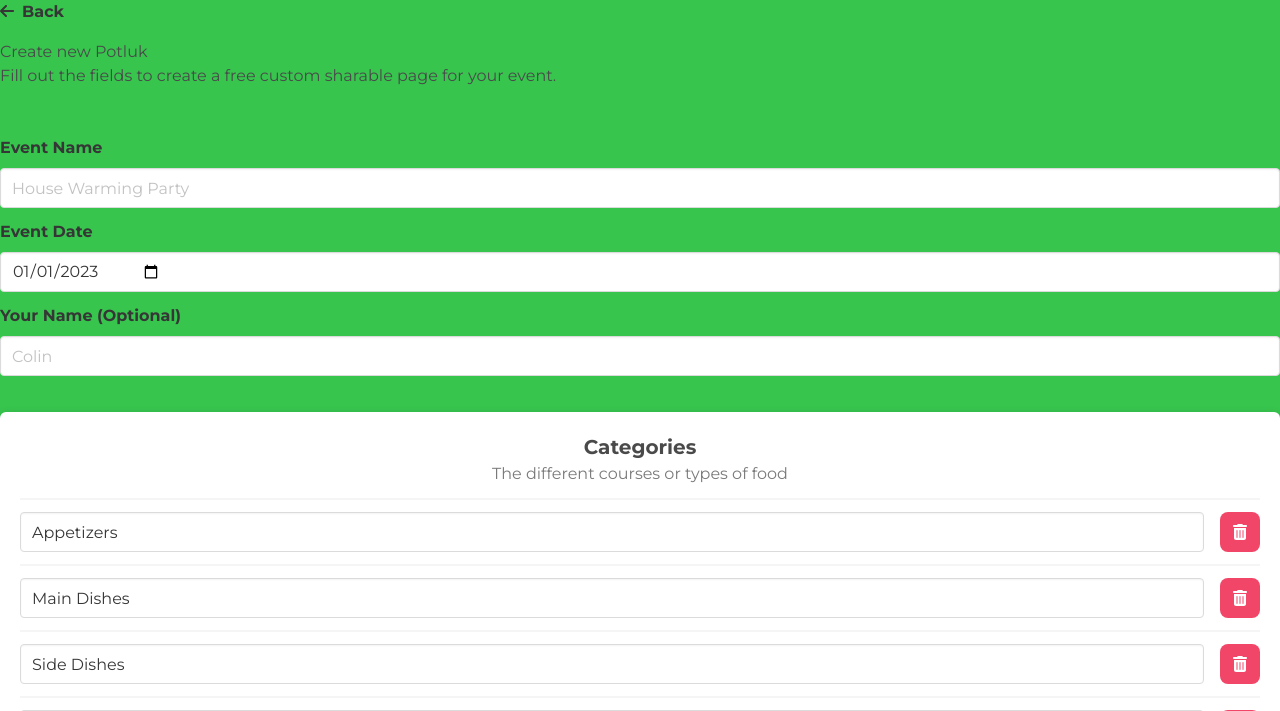
Scenario: New Page › "Create" button › should be enabled when all requirements are met
In the field labelled "Event Name": (640, 188) [0,168,1279,208], type "My Event"
(page scrolled)
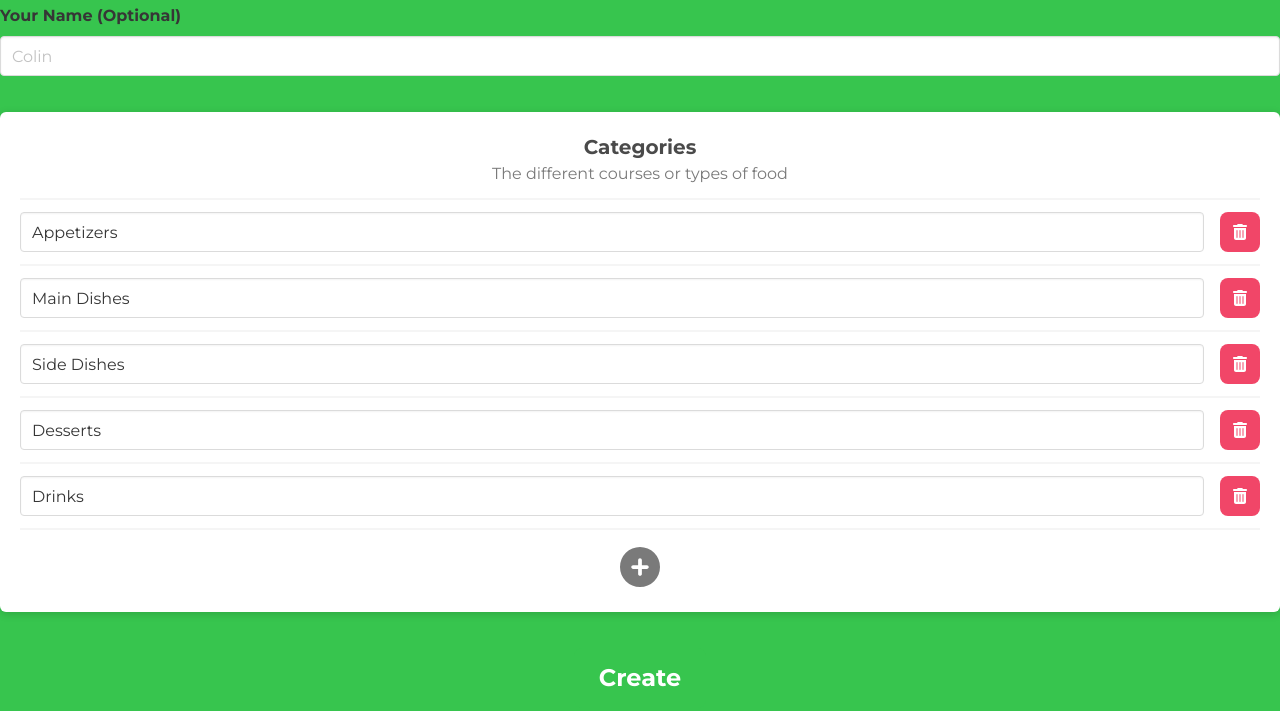
Result: the button "Create" is enabled at [574,648,706,708]
